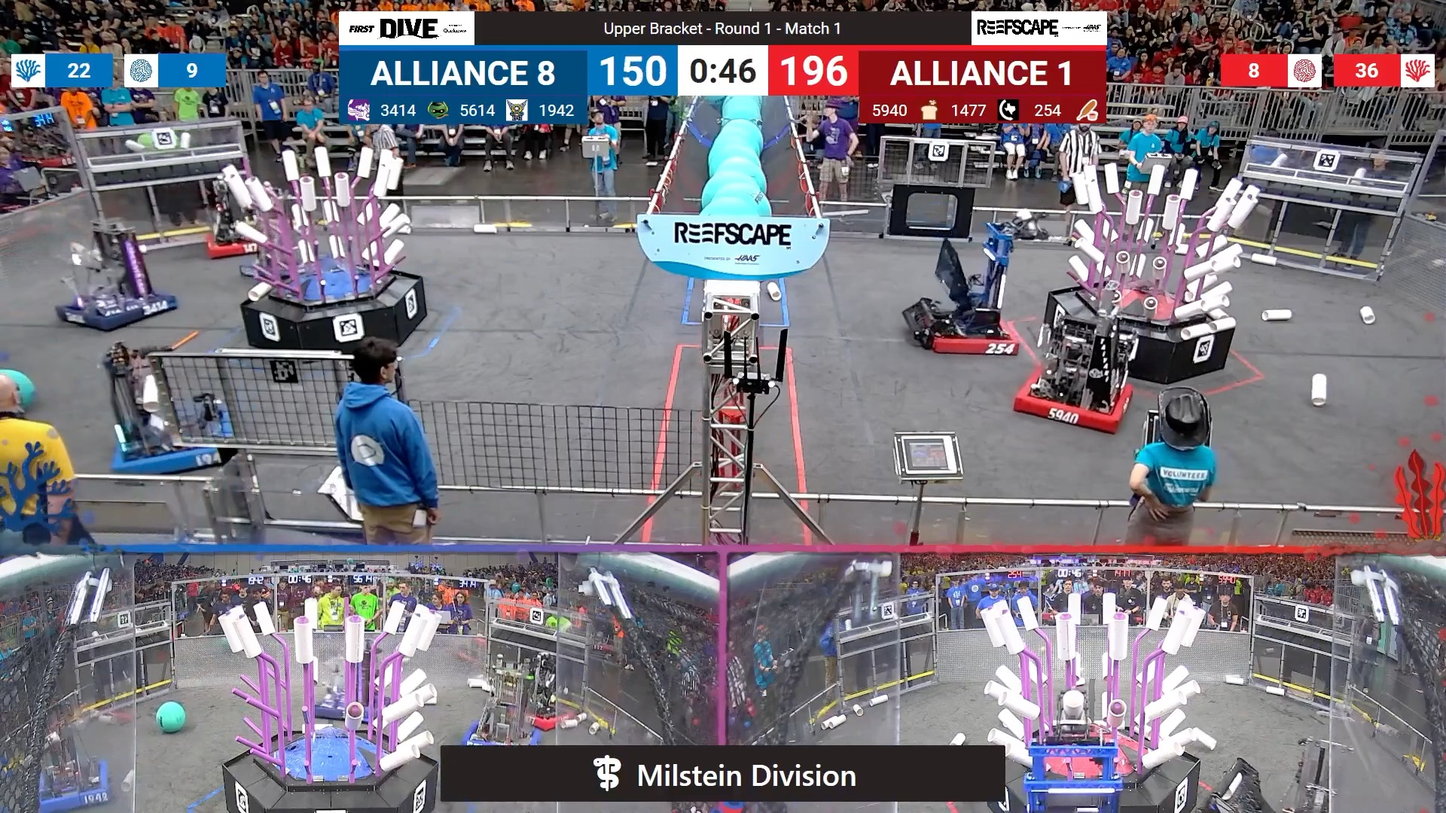bumpers: (1010, 367, 1146, 440), (108, 424, 243, 483), (905, 305, 1030, 368), (53, 285, 185, 339), (32, 747, 110, 813), (458, 714, 547, 750), (198, 225, 279, 263), (516, 697, 582, 732)
